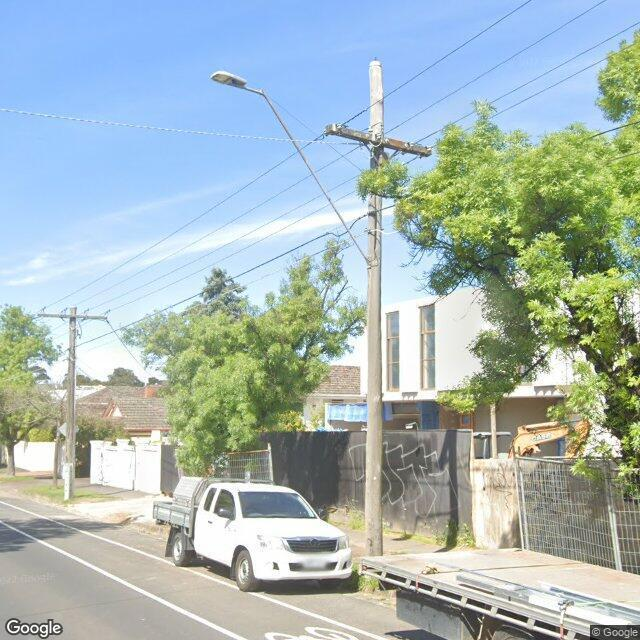crossarm: (326, 125, 432, 156), (37, 314, 107, 320)
streetlight: (209, 71, 371, 269)
timber-pole: (365, 61, 383, 556), (64, 307, 76, 501)
